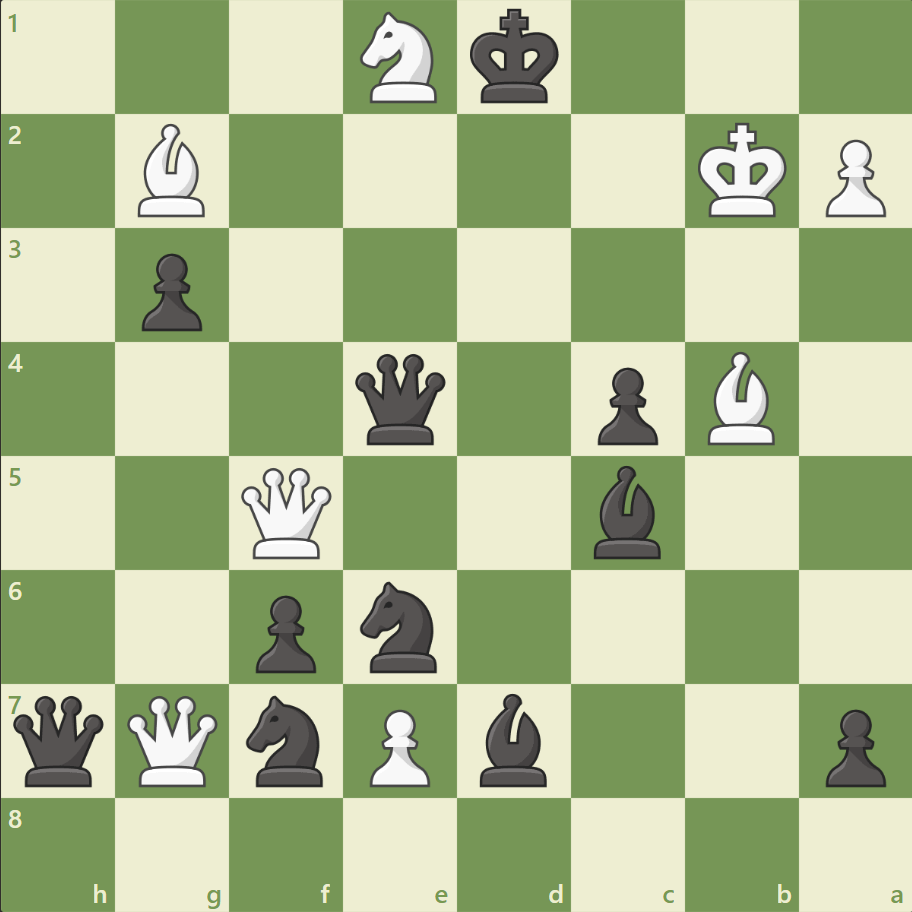B: (698, 347, 782, 449), (131, 120, 215, 222)
K: (692, 117, 792, 225)
N: (351, 7, 449, 110)
P: (361, 700, 435, 791), (815, 132, 889, 223)
Q: (124, 690, 223, 789), (237, 463, 336, 562)
b: (471, 687, 555, 790), (585, 460, 669, 563)
k: (465, 4, 565, 112)
n: (351, 575, 449, 677), (238, 688, 335, 791)
p: (247, 586, 322, 677), (133, 246, 208, 337), (815, 700, 889, 791), (588, 359, 662, 450)
q: (351, 349, 450, 449), (10, 690, 109, 789)
